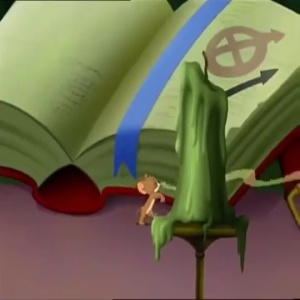Jerry: (137, 168, 162, 197)
